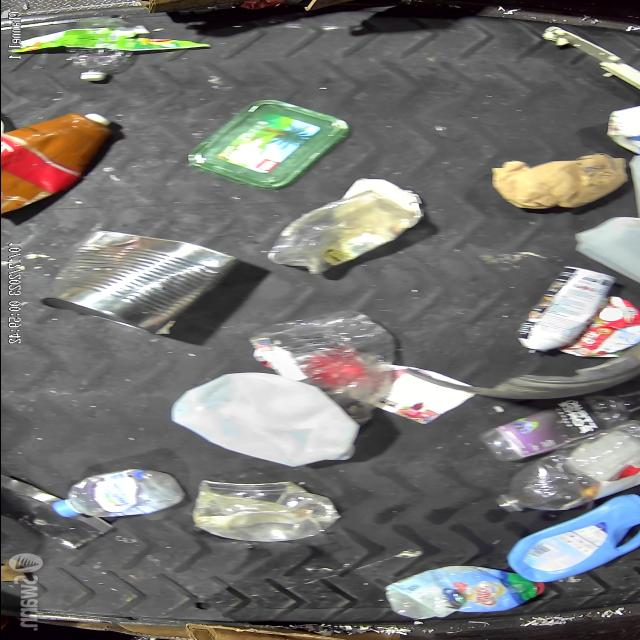can: (55, 230, 234, 332), (516, 266, 615, 354)
milk_jug: (167, 372, 355, 467), (574, 217, 640, 291)
non_white_jug: (502, 498, 640, 582), (1, 112, 112, 215)
plastic_bottle: (494, 427, 640, 512), (478, 399, 628, 464), (57, 470, 185, 520), (70, 49, 132, 83)
